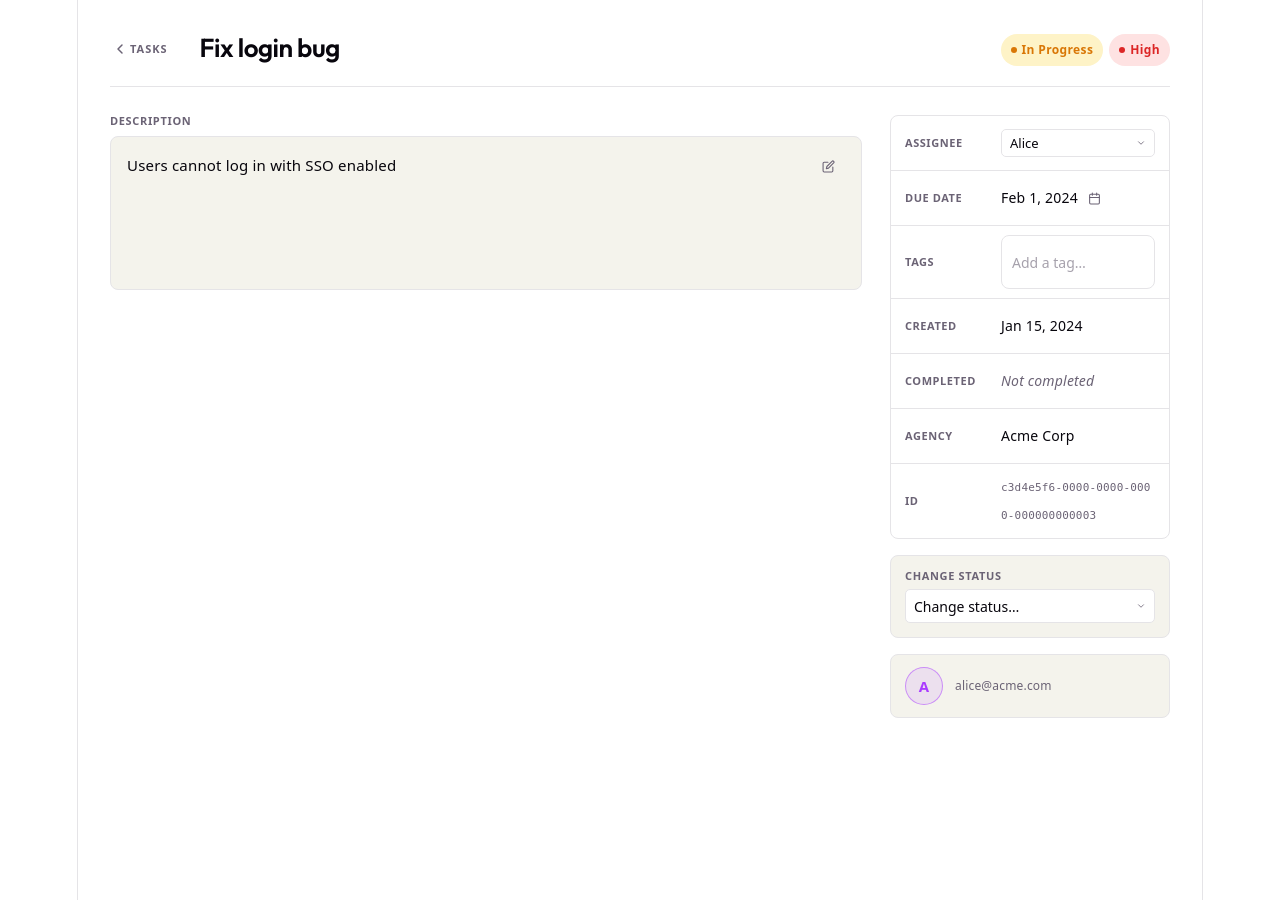
Test: TaskDetailPage › description › clicking the edit button reveals a textarea
Expected: the heading "Fix login bug" is shown, [200,32,340,63]
Click the button named "edit description": (828,166) [815,153,841,179]
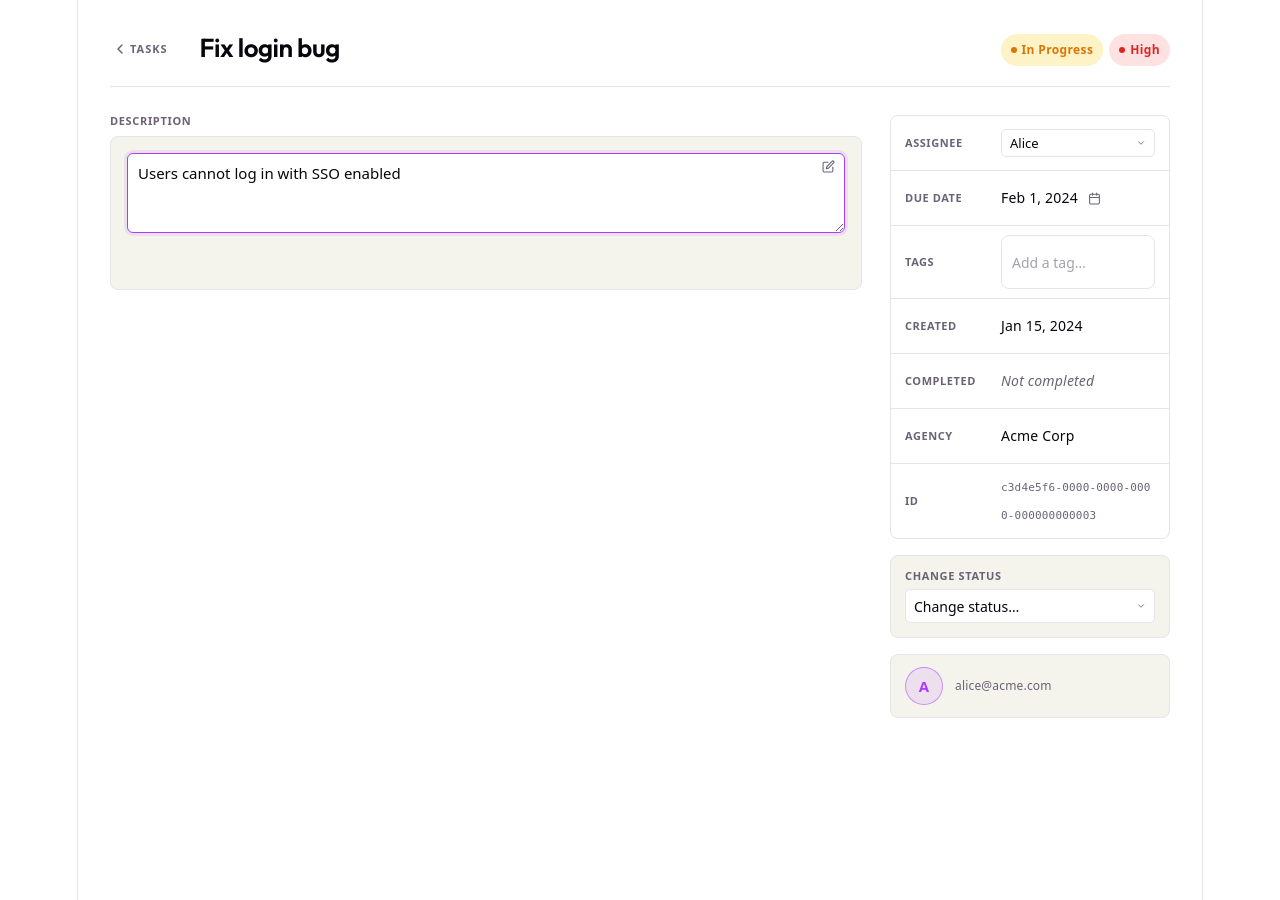
Expected: the text box named "description" is shown, [127,153,845,233]
